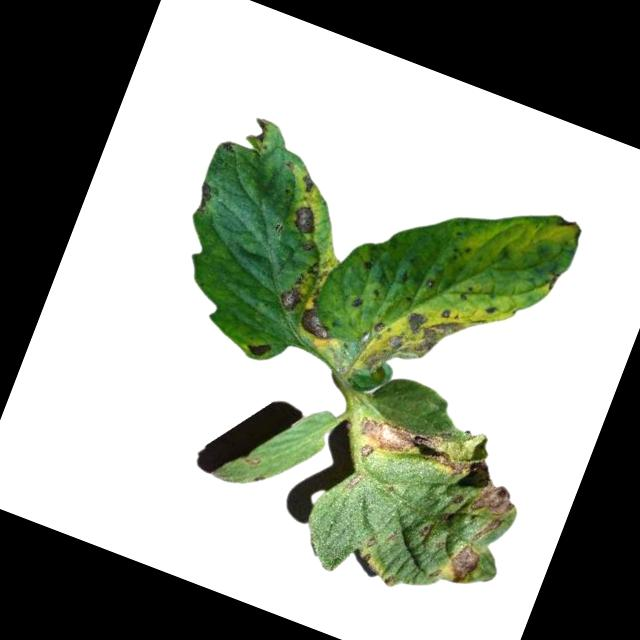Early_blight: (357, 285, 474, 400), (353, 403, 479, 480), (470, 476, 520, 523), (445, 540, 485, 589), (295, 303, 338, 341), (288, 201, 323, 238), (470, 513, 503, 551), (551, 213, 586, 242), (246, 110, 273, 143), (243, 334, 274, 362), (192, 179, 217, 213), (275, 285, 303, 315), (343, 467, 365, 494), (298, 172, 317, 193), (218, 137, 238, 156), (357, 441, 375, 459), (419, 520, 434, 539), (451, 490, 466, 506), (365, 534, 377, 549), (362, 258, 374, 270)
